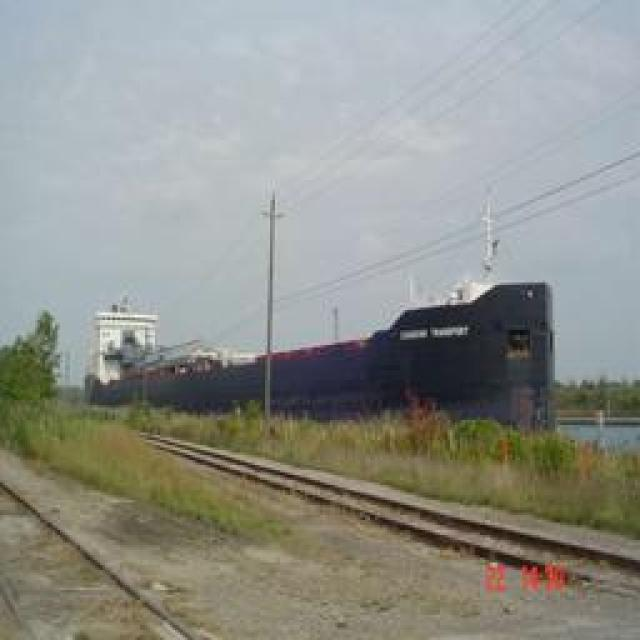CIV_Ship: (75, 286, 553, 424)
